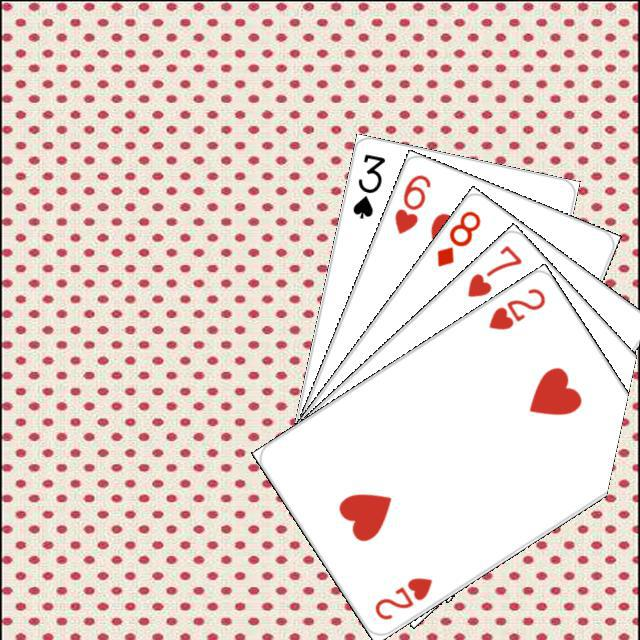2h: (369, 572, 435, 622), (483, 283, 548, 332)
3s: (347, 149, 387, 221)
6h: (389, 169, 433, 236)
7h: (462, 239, 524, 299)
8d: (431, 205, 483, 269)
